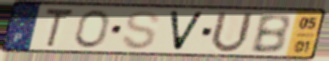B: (248, 13, 292, 56)
O: (73, 8, 111, 50)
S: (120, 9, 162, 51)
T: (42, 6, 76, 50)
U: (207, 9, 256, 55)
V: (167, 9, 207, 53)
